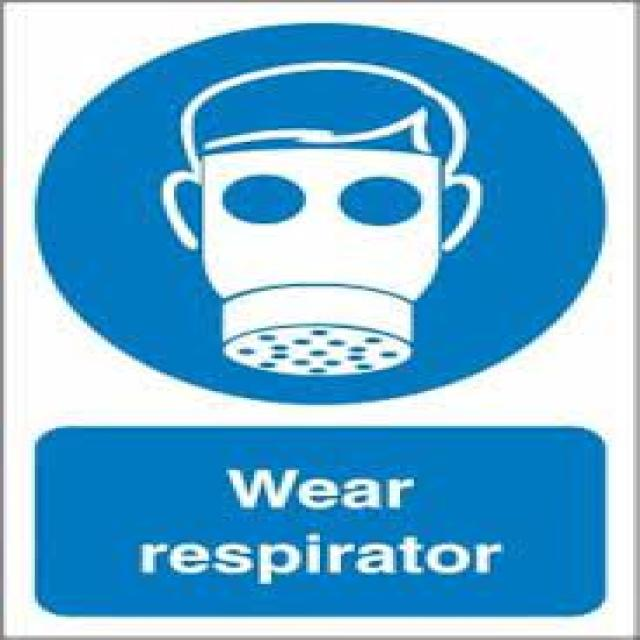wear-respirator: (26, 19, 640, 405)
